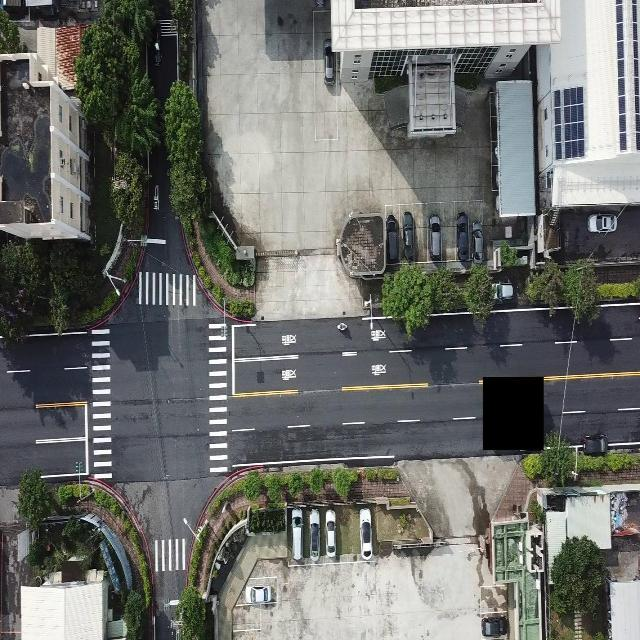car: (357, 507, 374, 562), (385, 210, 401, 263), (455, 210, 470, 263), (290, 507, 304, 563), (307, 509, 321, 562), (402, 210, 416, 262), (428, 213, 443, 261), (246, 583, 276, 607), (471, 217, 486, 263), (324, 509, 337, 561), (482, 613, 509, 637), (588, 212, 618, 233), (322, 35, 334, 85), (490, 279, 514, 303)
